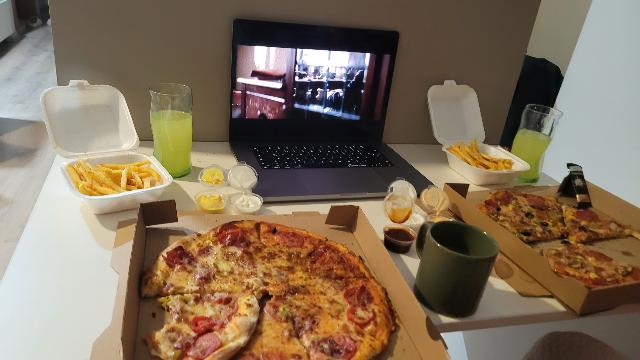Cam: (146, 81, 199, 181), (512, 102, 565, 189)
Organik: (145, 215, 392, 360), (478, 183, 629, 286), (71, 158, 151, 196), (452, 143, 508, 172)
Plastik: (38, 75, 143, 157), (424, 77, 495, 146)
